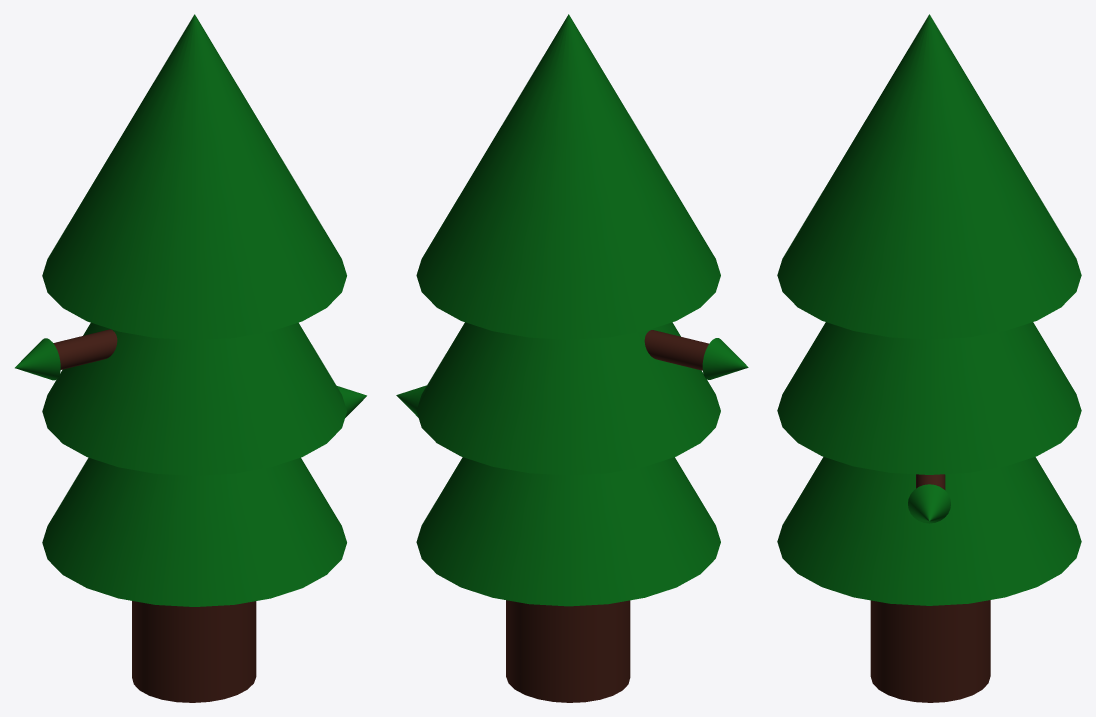
Rendered from treeobj3.obj.
3 renders of one model, left to right at view 1: azimuth 30°, elevation 25°; view 2: azimuth 150°, elevation 25°; view 3: azimuth 270°, elevation 25°, orthographic.
Parts seen in each view (by area): view 1: Cone006, Cone001, Cone005, Cone004, Cone010, Cone009; view 2: Cone006, Cone001, Cone005, Cone004, Cone010, Cone009; view 3: Cone006, Cone005, Cone001, Cone004, Cone008.
Part boxes in pixels (x1,y1,x2,y2): Cone006: (42,14,346,340); Cone001: (42,457,346,606); Cone005: (42,322,346,475); Cone004: (132,601,256,702); Cone010: (53,329,117,369); Cone009: (15,338,60,380); Cone006: (416,14,720,339); Cone001: (416,457,720,606); Cone005: (416,322,720,475); Cone004: (506,600,630,702); Cone010: (644,330,708,370); Cone009: (702,338,748,379); Cone006: (777,14,1081,339); Cone005: (777,322,1081,474); Cone001: (777,457,1081,605); Cone004: (870,600,990,702); Cone008: (908,484,950,523).
Bounding box in the file's own units: 29.56 × 53.06 × 22.1.
